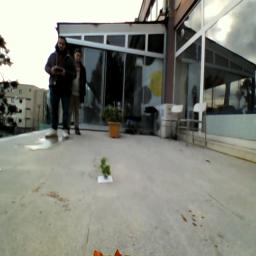herb: (101, 159, 113, 181)
